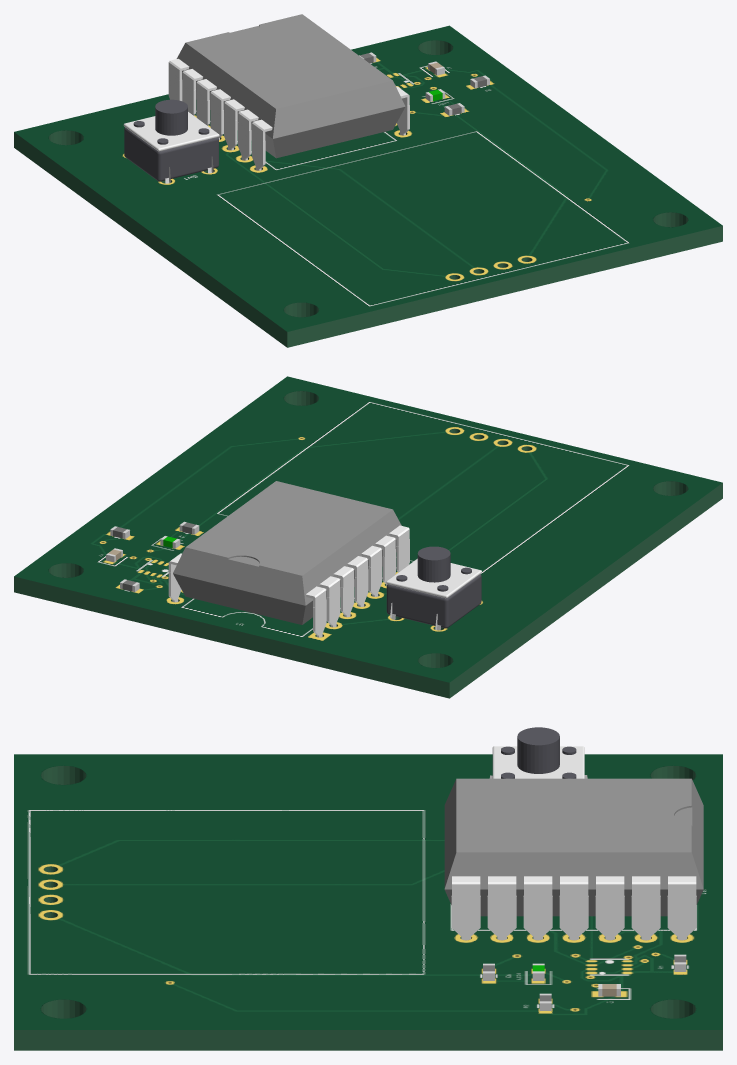
Rendered from board.glb.
3 renders of one model, top to bottom at view 1: azimuth 30°, elevation 25°; view 2: azimuth 150°, elevation 25°; view 3: azimuth 270°, elevation 25°, orthographic. The views are drawn at different scales.
Parts seen in each view (by area): view 1: Box0, U1, SW1; view 2: Box0, U1, SW1; view 3: Box0, U1, SW1.
Part boxes in pixels (bbox=[...]): Box0: bbox=[14, 25, 722, 347]; U1: bbox=[168, 14, 409, 170]; SW1: bbox=[123, 99, 219, 183]; Box0: bbox=[14, 376, 722, 698]; U1: bbox=[168, 481, 409, 637]; SW1: bbox=[386, 546, 481, 630]; Box0: bbox=[14, 754, 722, 1050]; U1: bbox=[444, 778, 703, 940]; SW1: bbox=[489, 727, 587, 778].
Size of the model in its own units: 46 by 9.79 by 50.
Materials: 11 (2 with a texture image).
